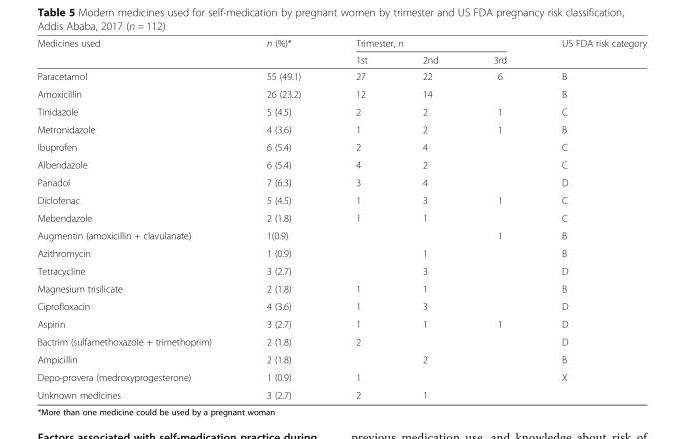table: (36, 37, 646, 400)
table column: (36, 37, 238, 400), (533, 37, 646, 400), (238, 37, 327, 400), (394, 37, 465, 400), (465, 37, 533, 400), (327, 37, 394, 400)
table column header: (36, 37, 646, 67)
table row: (36, 84, 646, 102), (36, 102, 646, 120), (36, 137, 646, 155), (36, 155, 646, 173), (36, 190, 646, 208), (36, 208, 646, 226), (36, 226, 646, 244), (36, 261, 646, 279), (36, 279, 646, 297), (36, 314, 646, 332), (36, 332, 646, 350), (36, 367, 646, 385), (36, 50, 646, 67), (36, 67, 646, 84), (36, 120, 646, 137), (36, 173, 646, 190), (36, 244, 646, 261), (36, 297, 646, 314), (36, 350, 646, 367), (36, 385, 646, 400), (36, 37, 646, 50)
table spanning cell: (36, 37, 238, 67), (533, 37, 646, 67), (327, 37, 533, 50), (238, 37, 327, 67)
